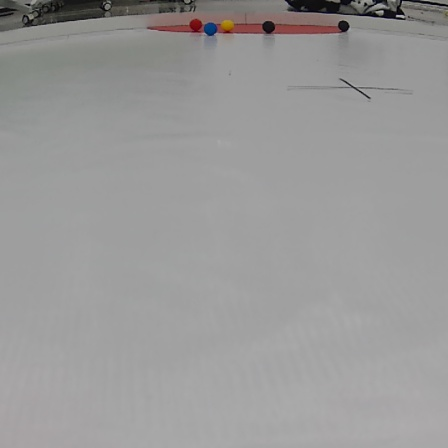black: (261, 19, 279, 35), (336, 19, 352, 35)
blue: (202, 19, 219, 38)
red: (185, 16, 202, 31)
red_base: (148, 18, 346, 38)
yellow: (218, 17, 237, 31)
